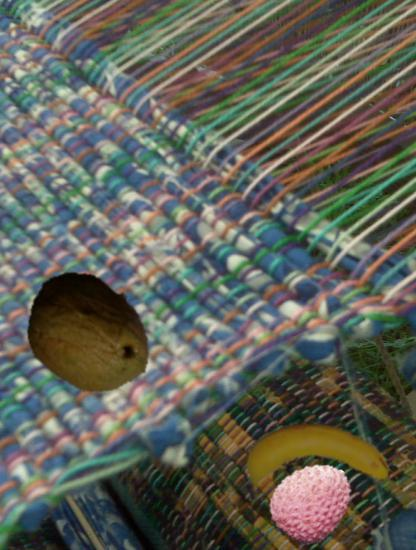Banana: (245, 396, 391, 542)
Lychee: (268, 458, 356, 546)
Papaya: (20, 265, 158, 403)
